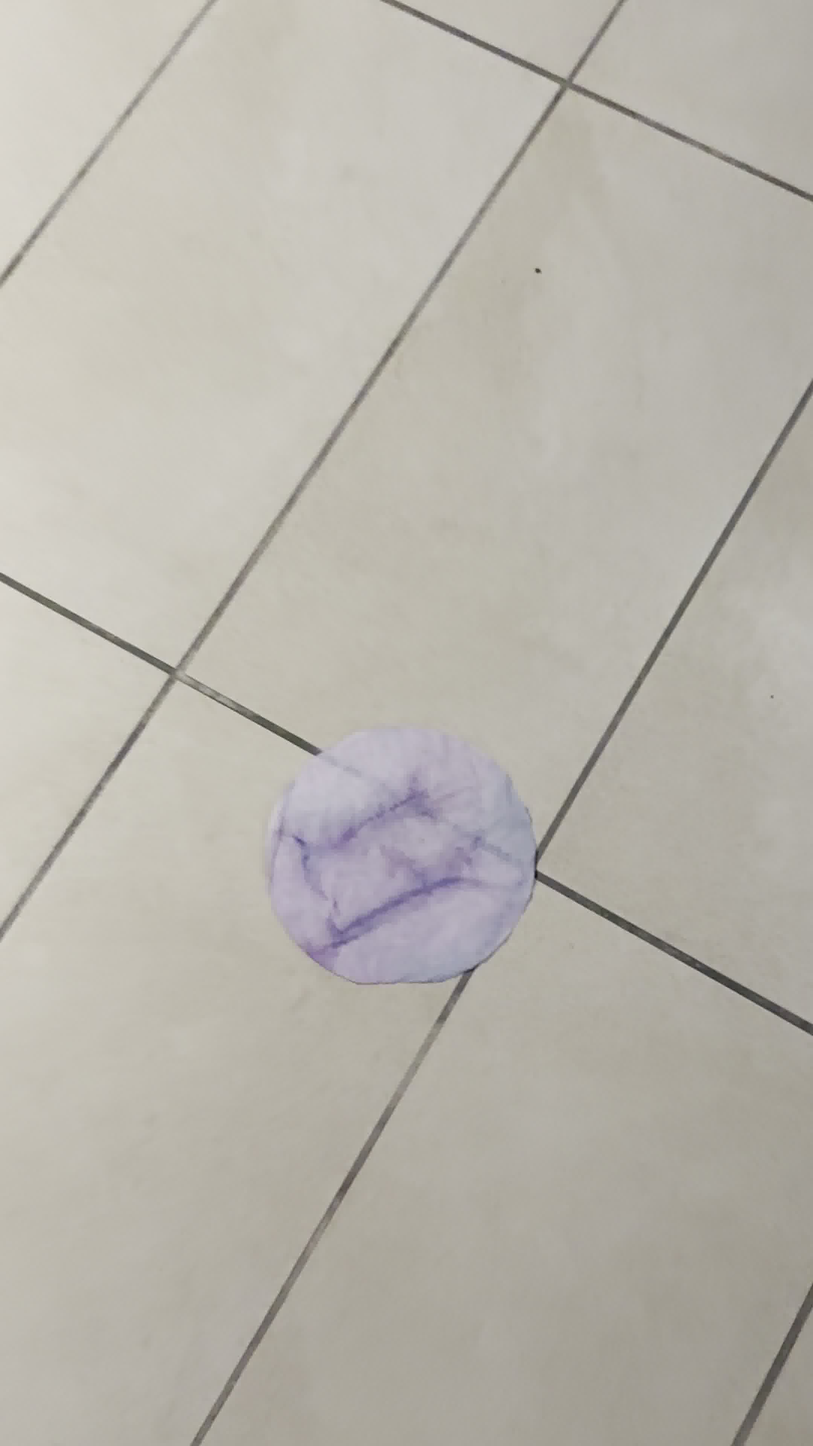Target: (255, 720, 535, 984)
